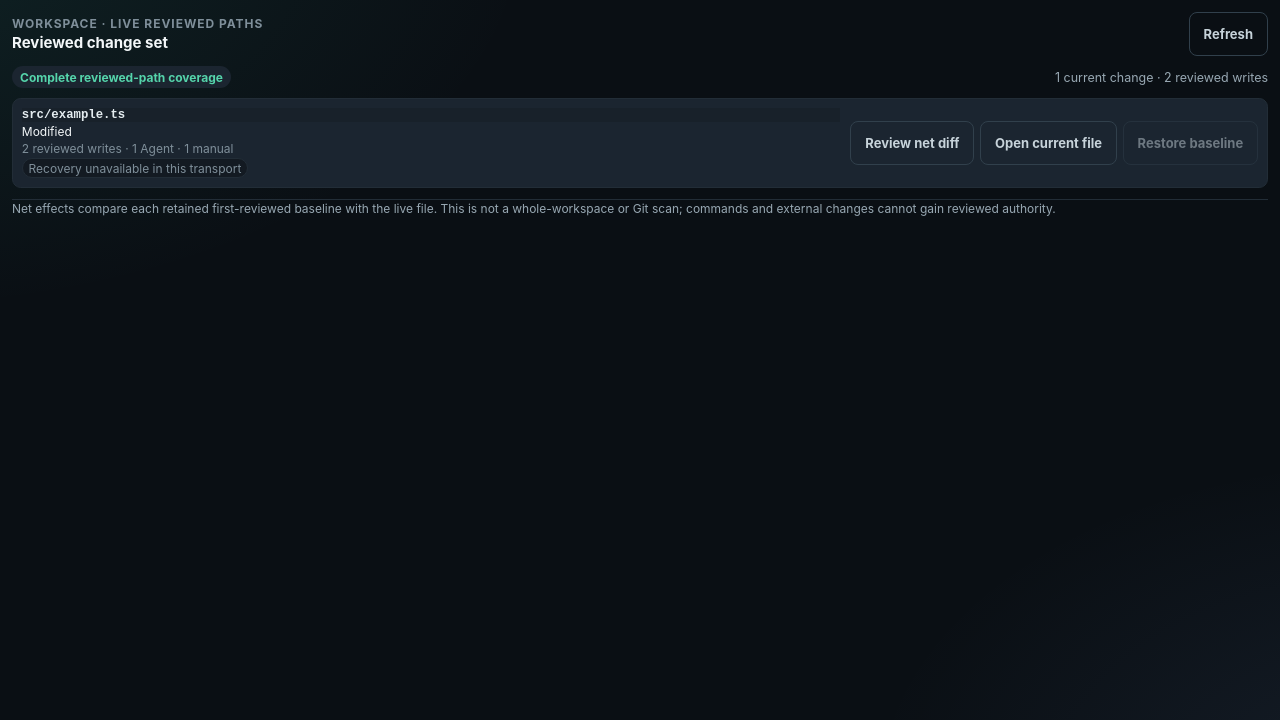
AgentChangeSetPanel › shows current net effects and lazily loads an exact per-file diff
The image size is (1280, 720).
Later steps or results of the test are not shown.
Check: the text "Complete reviewed-path coverage" is shown, box x1=12 y1=66 x2=231 y2=88
Check: the text "1 current change · 2 reviewed writes" is shown, box x1=1055 y1=70 x2=1268 y2=85
Click the button "Review net diff" at (912, 143), box x1=850 y1=121 x2=974 y2=165
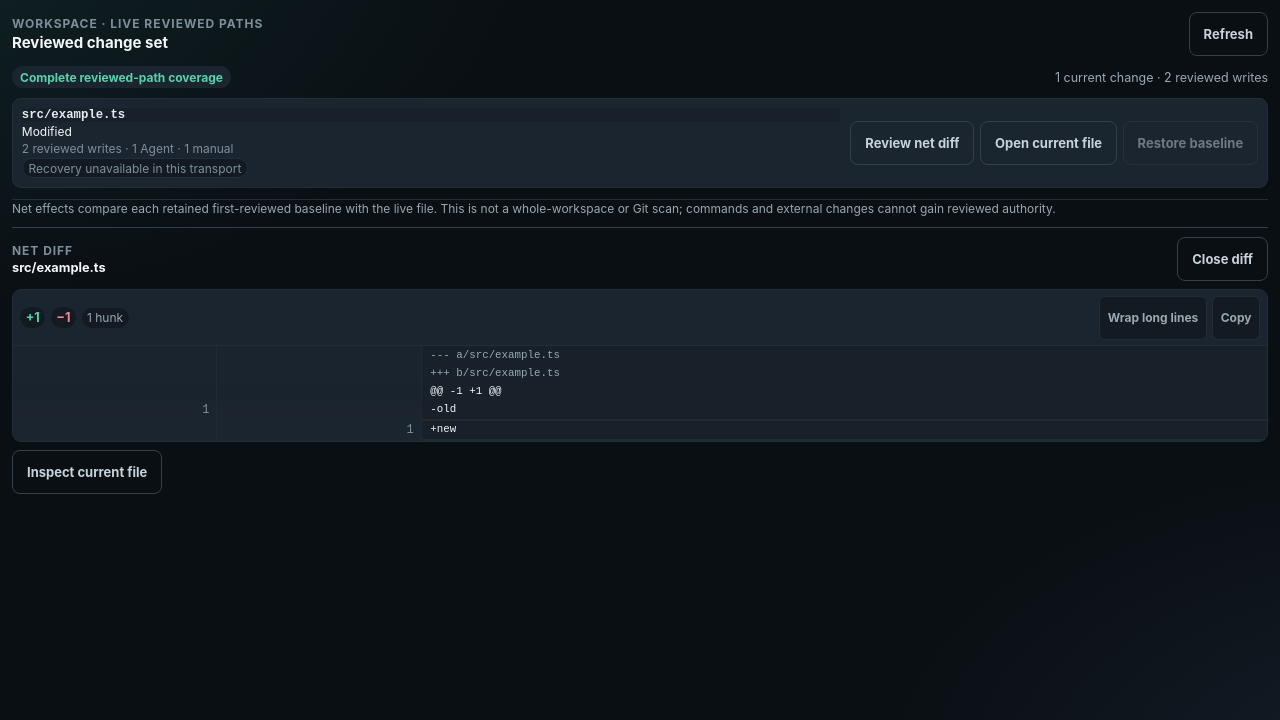
Check: the element named "Diff summary: 1 added line, 1 removed line, 1 hunk" is shown, box x1=20 y1=307 x2=129 y2=328
Check: the element named "Net diff for src/example.ts" shows "+new", box x1=430 y1=423 x2=456 y2=435
